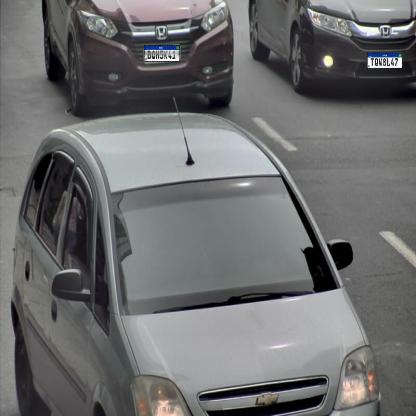PlacaM: (144, 45, 180, 62), (367, 52, 403, 69)
